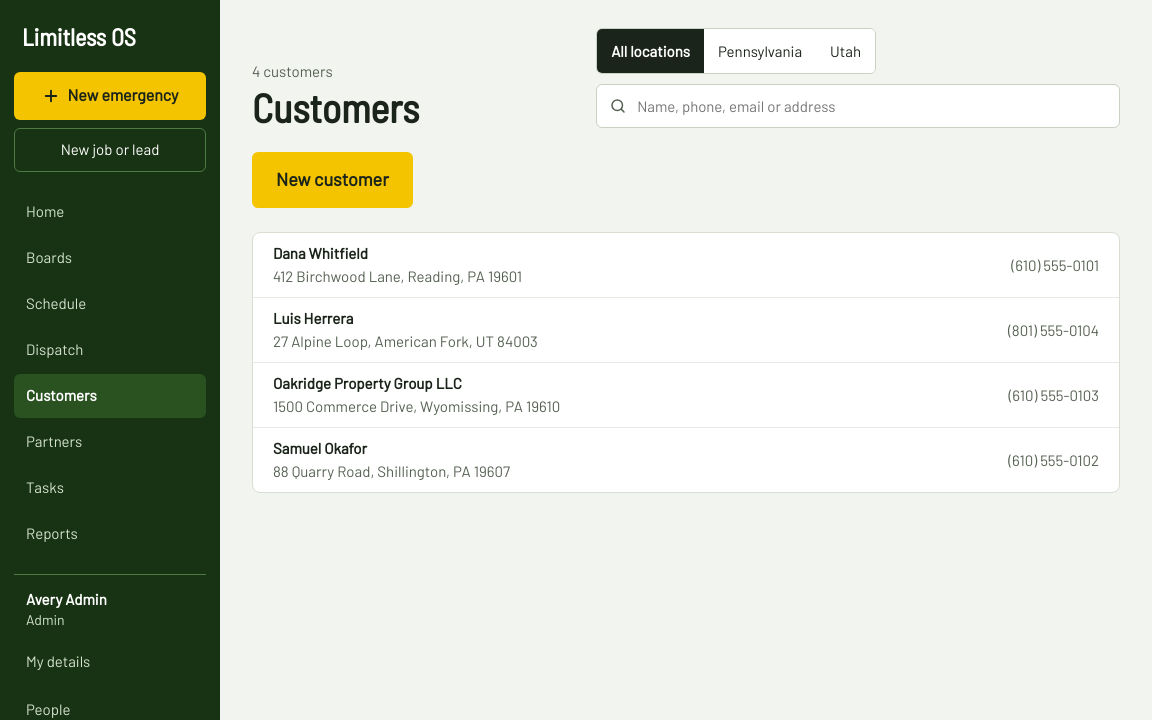
it: Customers list › follows the location filter
This screenshot has width=1152, height=720.
Expected: the link "Dana Whitfield" is shown, left=253, top=233, right=1119, bottom=297
Click the button "Utah".
click(846, 51)  # box left=816, top=29, right=875, bottom=73
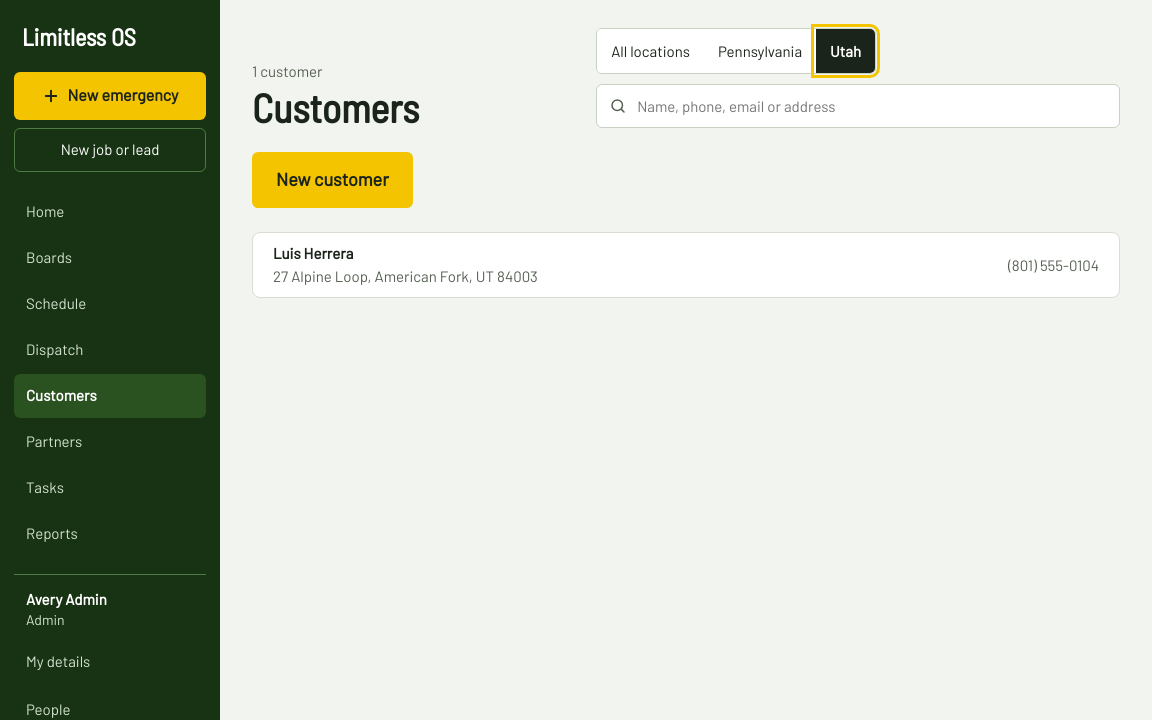
Expected: the link "Luis Herrera" is shown, left=253, top=233, right=1119, bottom=297
Now the text "1 customer" is shown, box left=252, top=62, right=322, bottom=80
